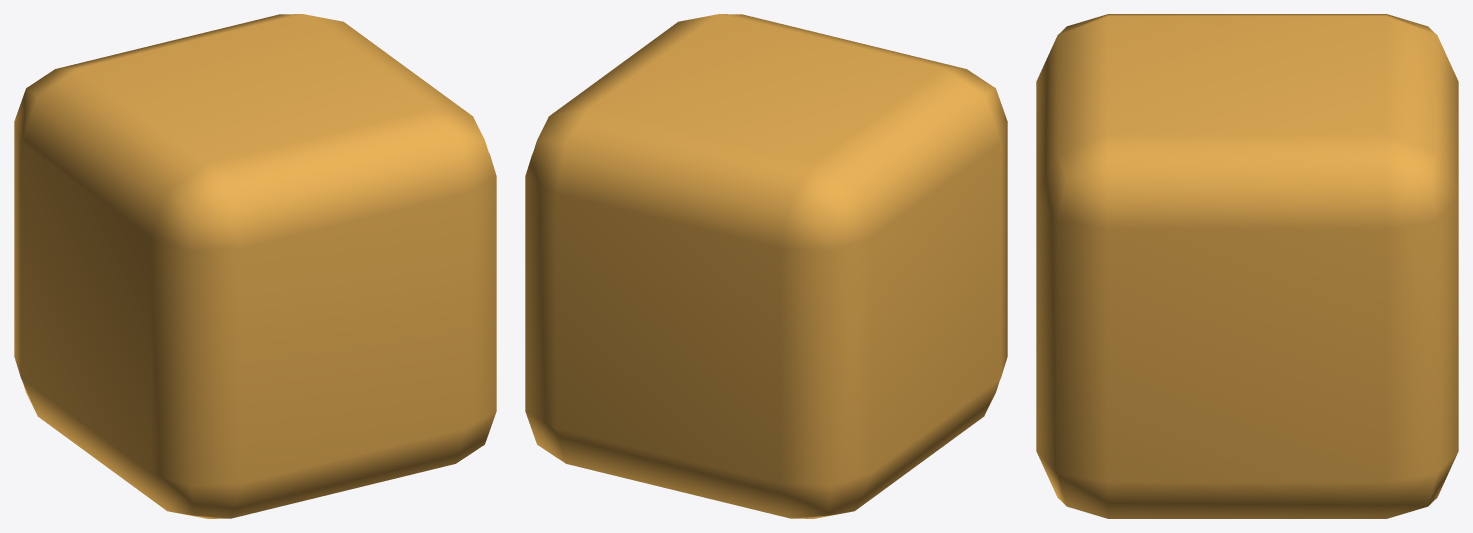
The model's file is CubeOrange.fbx.
3 renders of one model, left to right at view 1: azimuth 30°, elevation 25°; view 2: azimuth 150°, elevation 25°; view 3: azimuth 270°, elevation 25°, orthographic. The views are drawn at different scales.
Visible parts, largest first — view 1: pCube1; view 2: pCube1; view 3: pCube1.
Boxes of the visible parts, bbox=[...] form: pCube1: bbox=[14, 14, 496, 518]; pCube1: bbox=[525, 14, 1007, 518]; pCube1: bbox=[1036, 14, 1458, 518].
Bounding box in the file's own units: 2.92 × 2.92 × 2.92.
